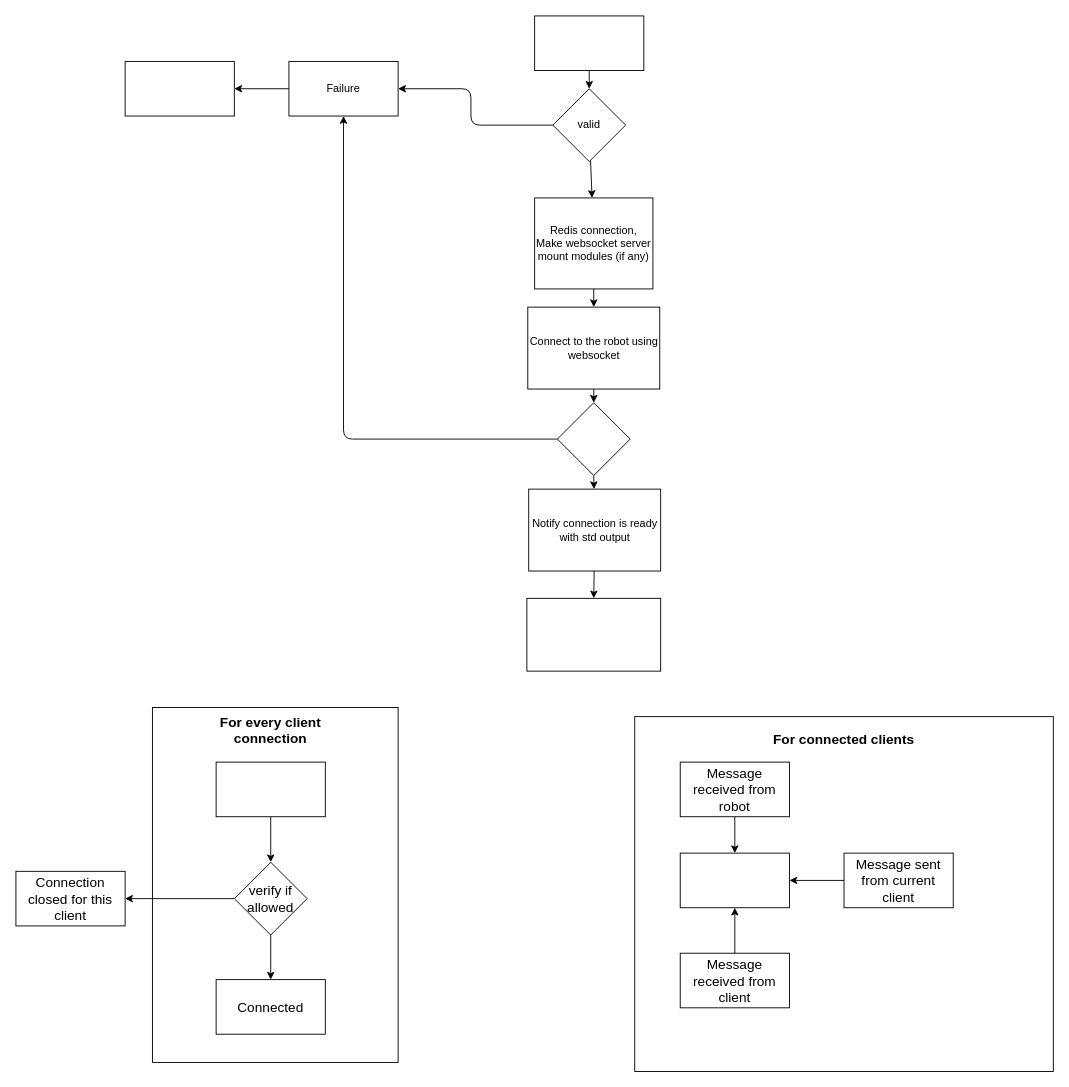
This 1069x1087 diagram has some shape labels left out. The shapes that lost their labels are listed below. From the top down, each one's centre as x and y in pixels, then its label:
At (x=589, y=43): "Input data is provided when initializing the software".
At (x=179, y=88): "Notify the webservice the error, if fatal the application shut down".
At (x=593, y=438): "success".
At (x=593, y=634): "Wait for client to connect".
At (x=270, y=789): "A client connect".
At (x=734, y=880): "The message is sent to all clients".
